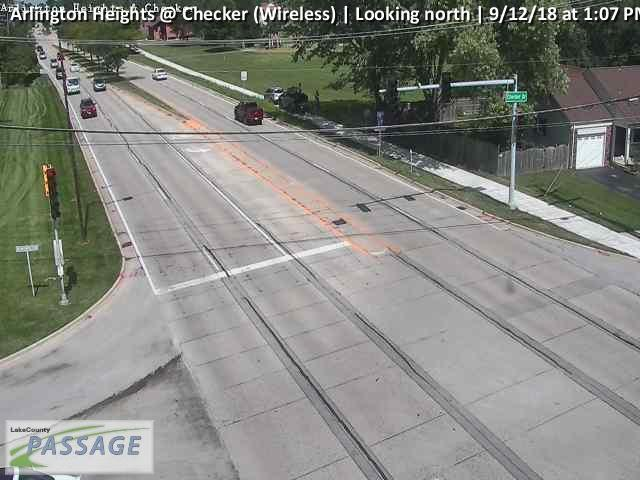Sedan: (234, 101, 264, 126), (80, 98, 98, 119), (67, 77, 80, 94), (151, 67, 167, 79), (93, 77, 106, 90), (55, 68, 66, 79), (49, 58, 58, 67), (70, 63, 80, 71), (39, 50, 46, 59)
